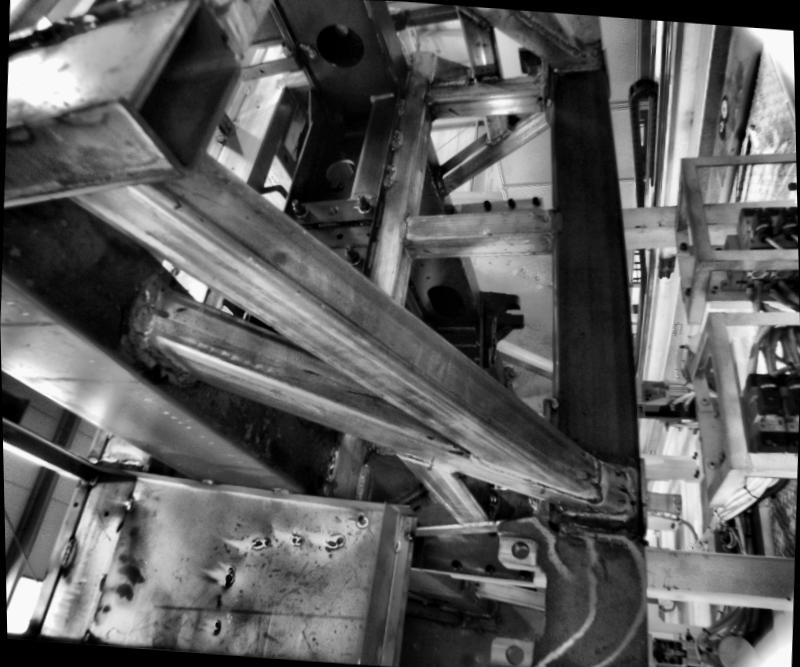bolt: (353, 189, 372, 212), (341, 242, 360, 263)
bracket: (473, 283, 528, 373)
hole: (424, 280, 469, 319), (503, 641, 524, 662), (507, 537, 529, 555), (150, 303, 173, 320), (102, 507, 110, 516), (334, 230, 342, 238), (72, 498, 78, 507), (405, 243, 414, 249), (415, 165, 422, 171)
welding: (140, 280, 172, 347), (558, 505, 646, 523), (630, 468, 644, 521), (58, 533, 77, 569), (595, 454, 608, 504), (382, 161, 396, 184), (195, 475, 217, 489), (400, 212, 409, 241), (392, 126, 404, 147), (270, 486, 294, 495), (125, 497, 136, 508)
